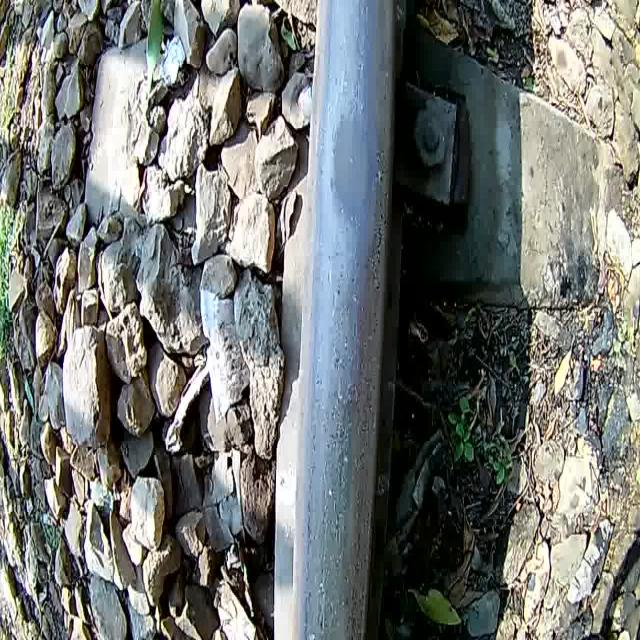Squats: (304, 94, 404, 243)
